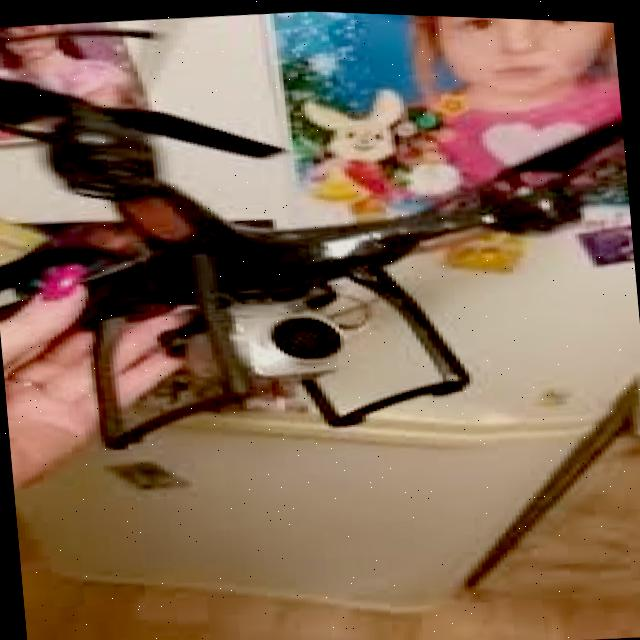drone: (0, 0, 640, 485)
